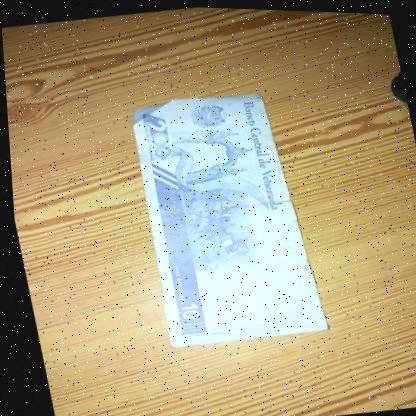vef_back: (118, 83, 328, 356)
